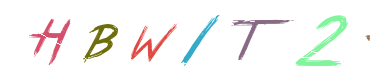1: (144, 0, 224, 80)
2: (186, 0, 266, 80)
B: (62, 0, 142, 80)
F: (192, 0, 272, 80)
H: (56, 0, 136, 80)
S: (282, 0, 362, 80)
T: (157, 0, 237, 80)
W: (87, 0, 167, 80)
